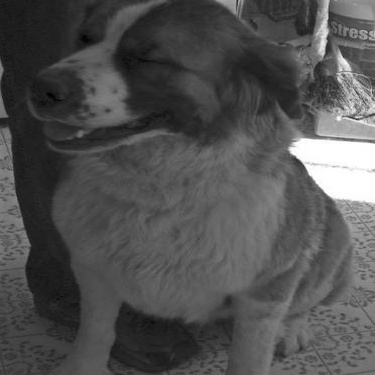dog: (18, 1, 361, 372)
